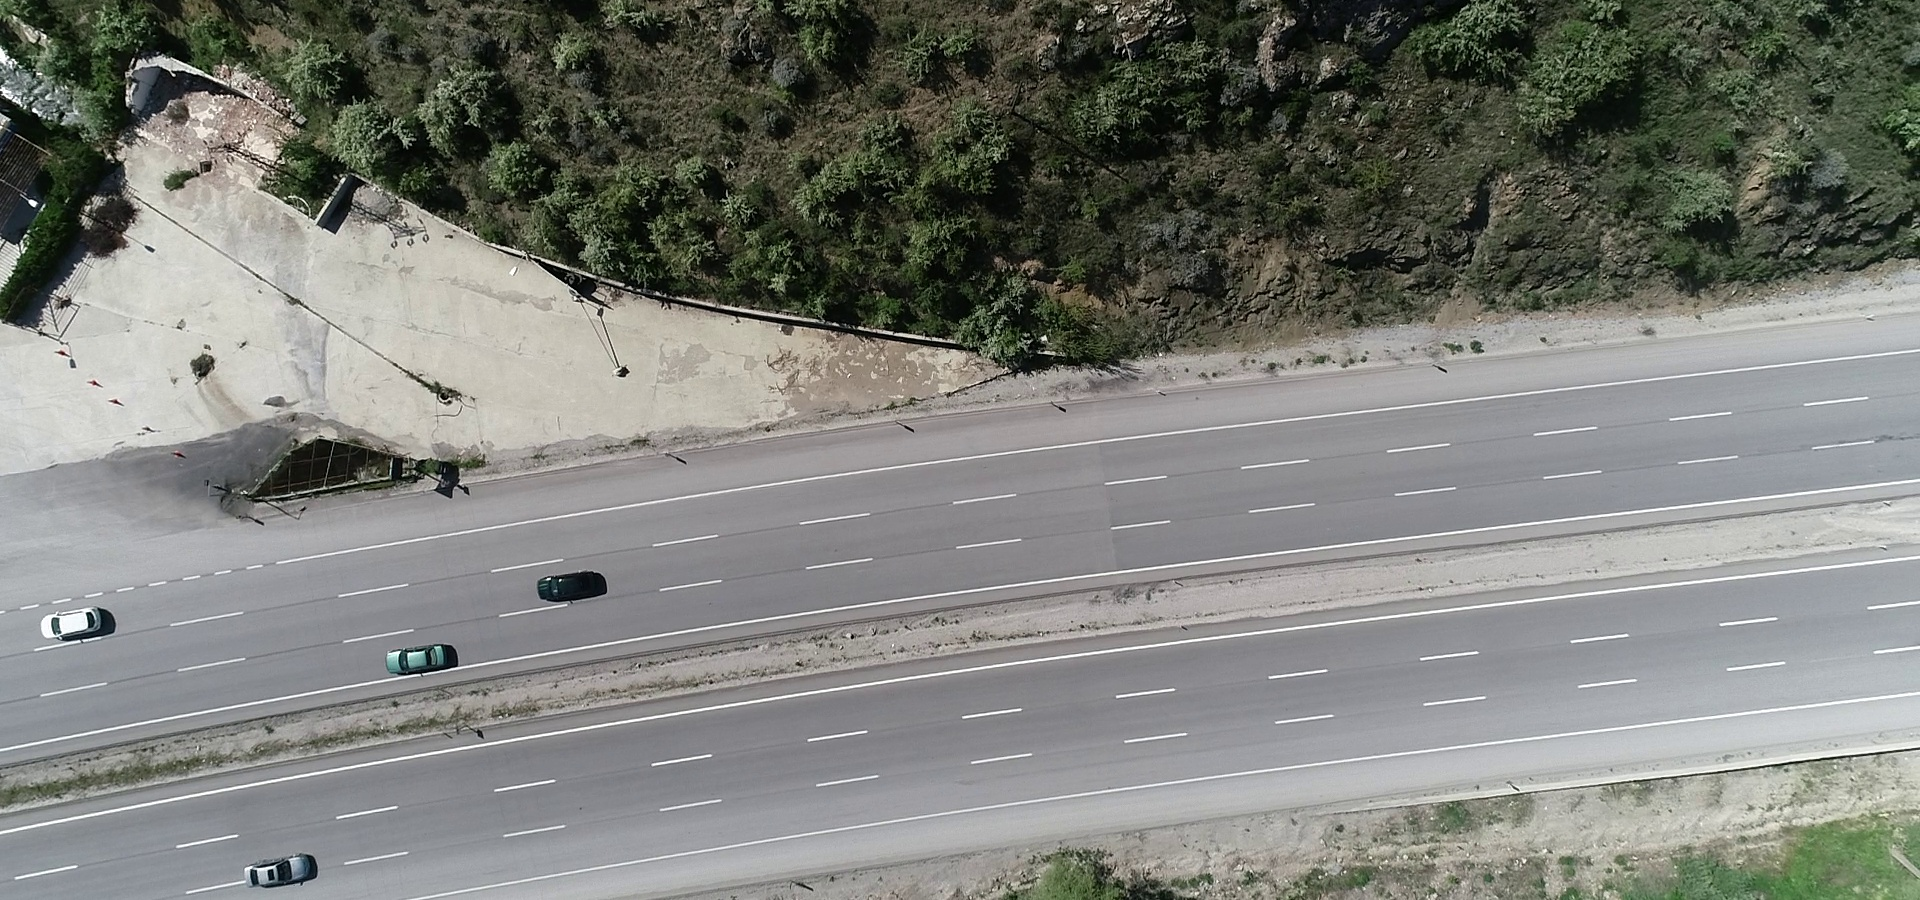arac: (242, 833, 317, 894), (33, 598, 116, 651), (528, 560, 621, 606), (378, 633, 453, 687)
